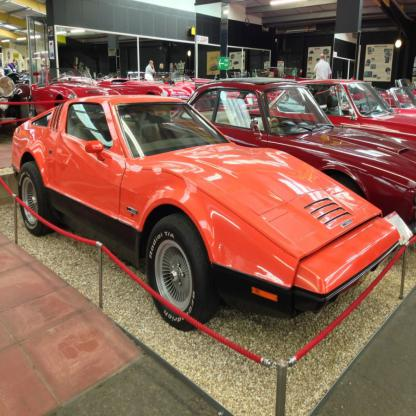Car: (0, 68, 416, 333)
